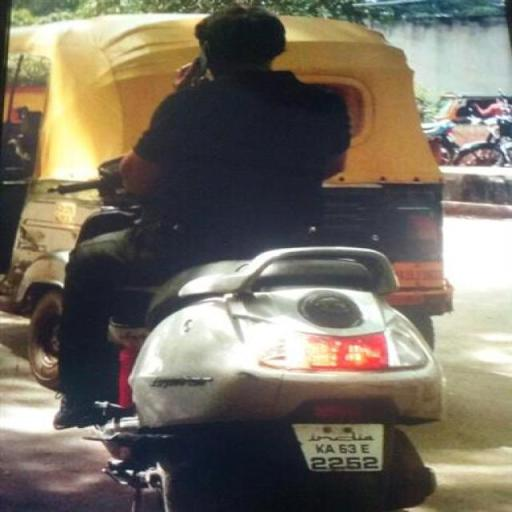numberplate: (300, 423, 388, 474)
using mobile: (170, 48, 216, 102)
